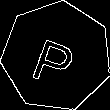P_N: (30, 26, 83, 86)
